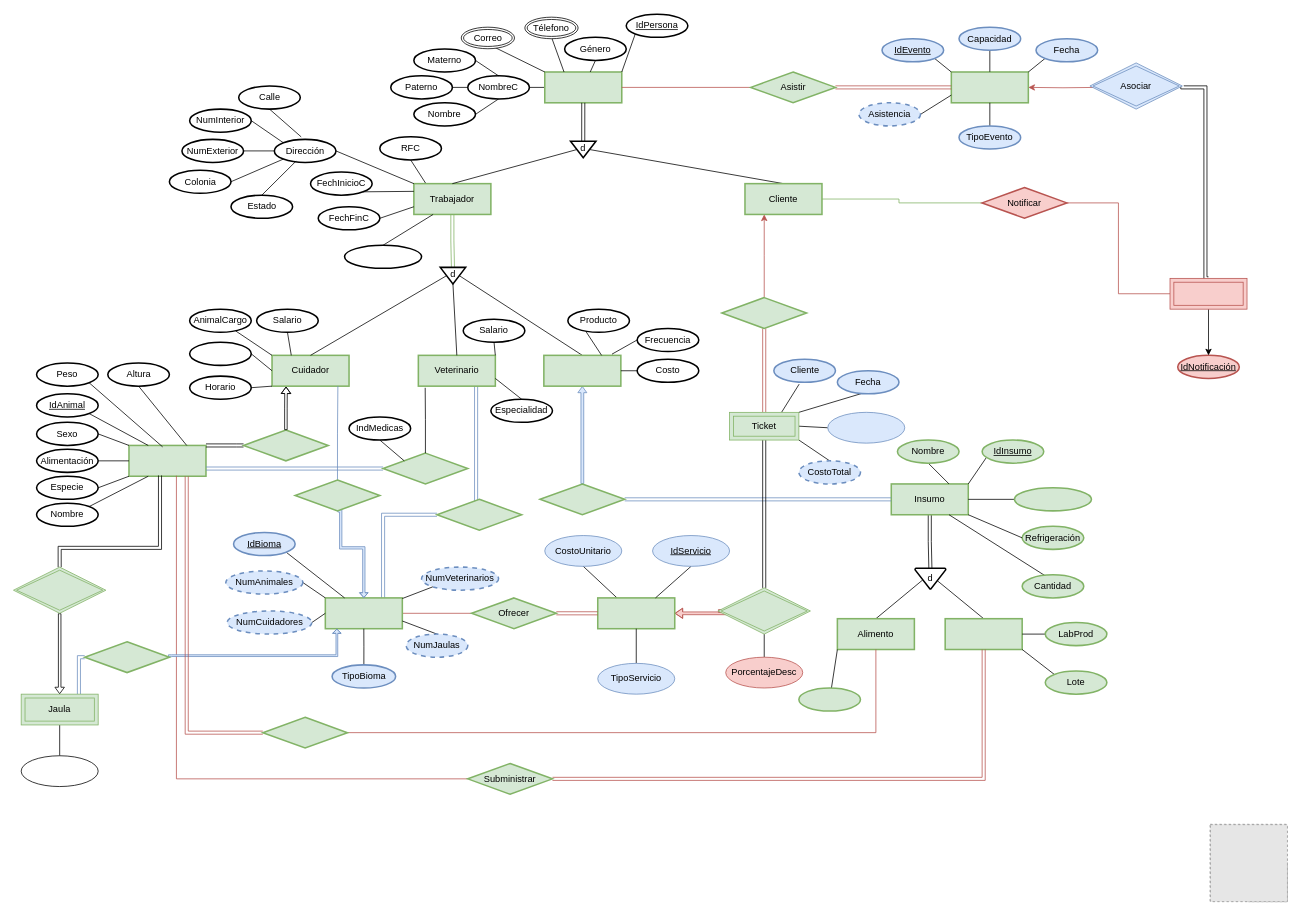
Some shapes in this 1301 by 915 pixel diagram are drawn without their labels. Grey dashed boxes stand in for pictures. The shapes that lost their labels are listed below. From the top down, each one's centre as x and y in pixels, then its label:
At point 583,87: "Persona".
At point 989,87: "Evento".
At point 382,256: "FechNacimiento".
At point 764,312: "Emitir".
At point 1208,293: "Notificacion".
At point 220,353: "DiasTrabajo".
At point 582,370: "Proveedor".
At point 285,445: "Cuidar".
At point 866,427: "IdTicket".
At point 167,460: "Animal".
At point 425,468: "Atender".
At point 337,495: "Trabajar".
At point 479,514: "Laborar".
At point 582,499: "Proveer".
At point 1052,499: "FechCaducidad".
At point 59,589: "Pertenecer".
At point 363,613: "Bioma".
At point 636,613: "Servicio".
At point 763,610: "Inscribir".
At point 983,634: "Medicina".
At point 127,657: "Tener".
At point 829,699: "TipoAlim".
At point 305,732: "Alimentar".
At point 59,771: "NumJaula".
